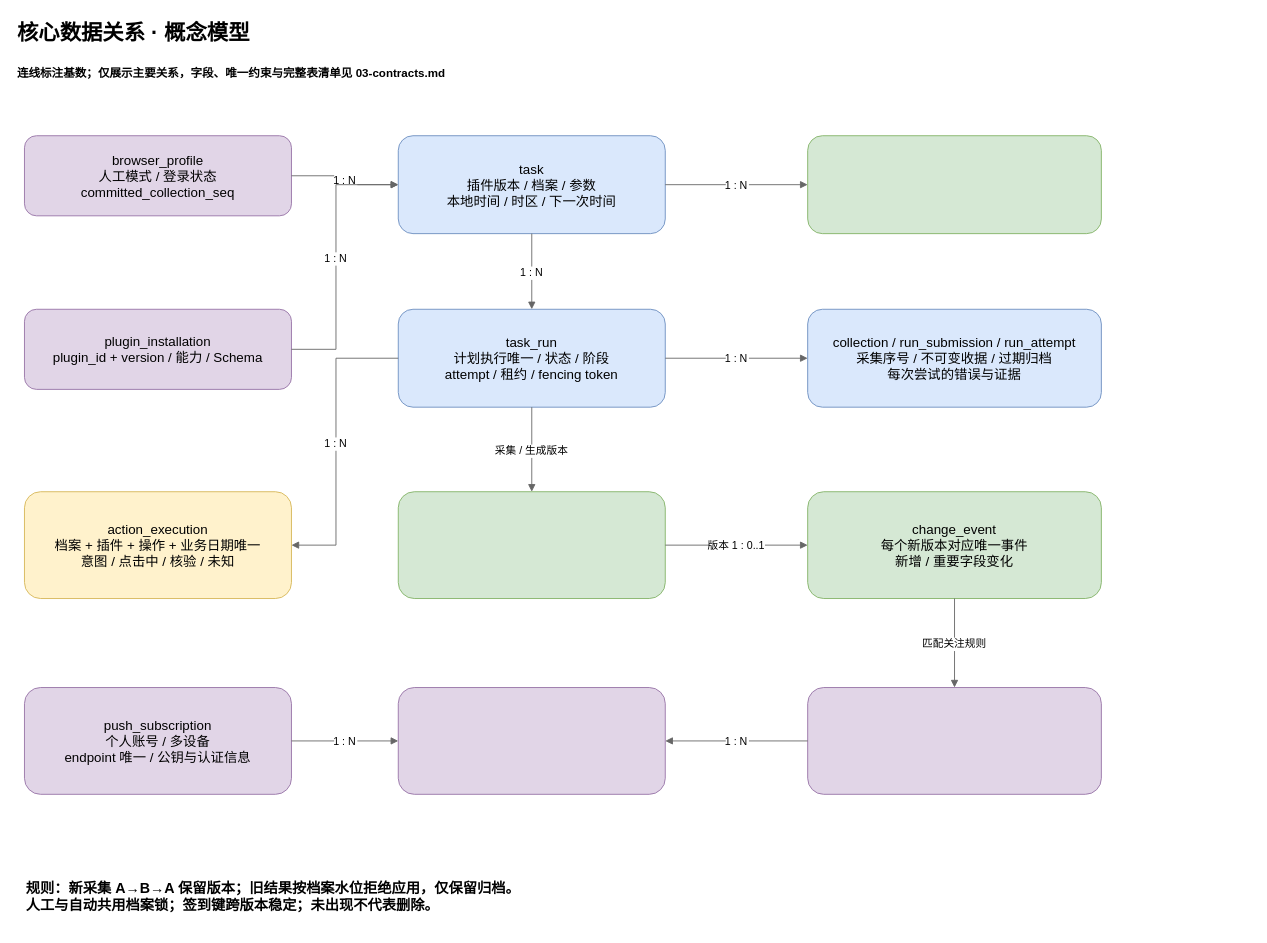
Some shapes in this 1267 by 943 pixel diagram are drawn without their labels. Here are the shapes that lost their labels. From the top down, the centre of each, then its label:
At [954,184]: "task_baseline 任务 + scope_key 唯一 最近完整采集基线".
At [531,545]: "entity → entity_version 来源 + 档案 + 类型 + 来源键 当前内容指纹 / 变化版本历史".
At [531,740]: "push_delivery 通知 + 设备订阅唯一 接受 / 重试 / 永久失败".
At [954,740]: "notification / outbox 站内记录 + 事务待发送事件 通知去重 / 已读状态".
